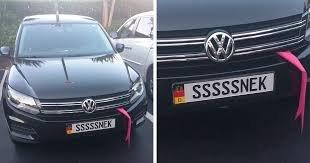Liscence Plate: (172, 75, 284, 96), (68, 121, 117, 133)
